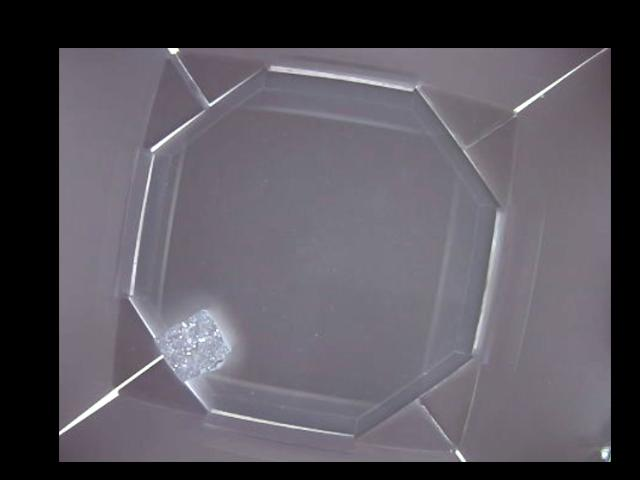China: (153, 309, 229, 381)
